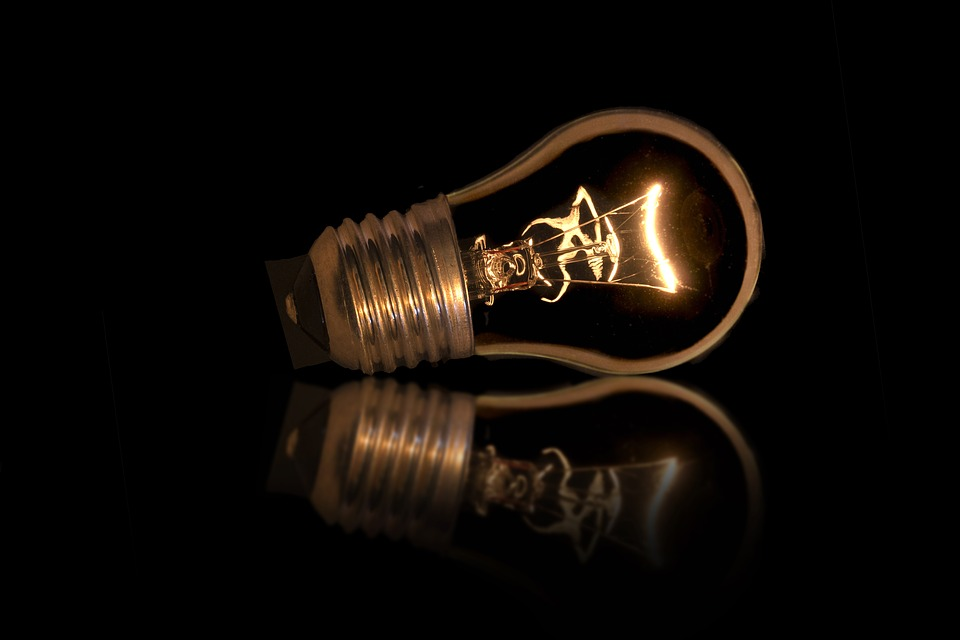Nonrec_Glass: (260, 98, 793, 382)
